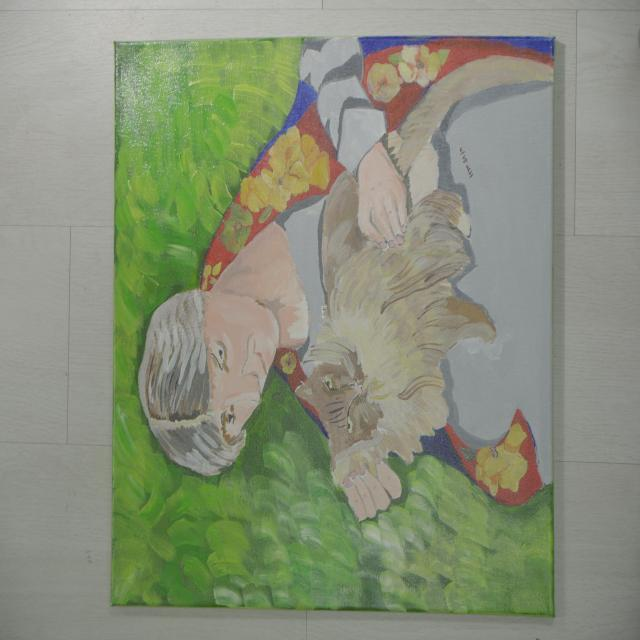painting: (112, 37, 553, 615)
